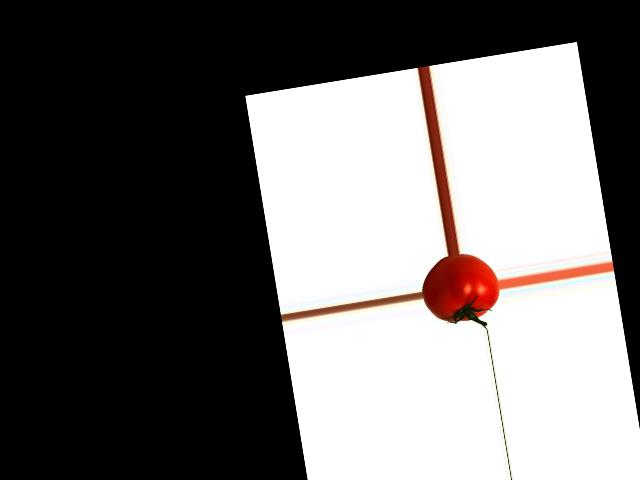tomato: (416, 249, 503, 327)
